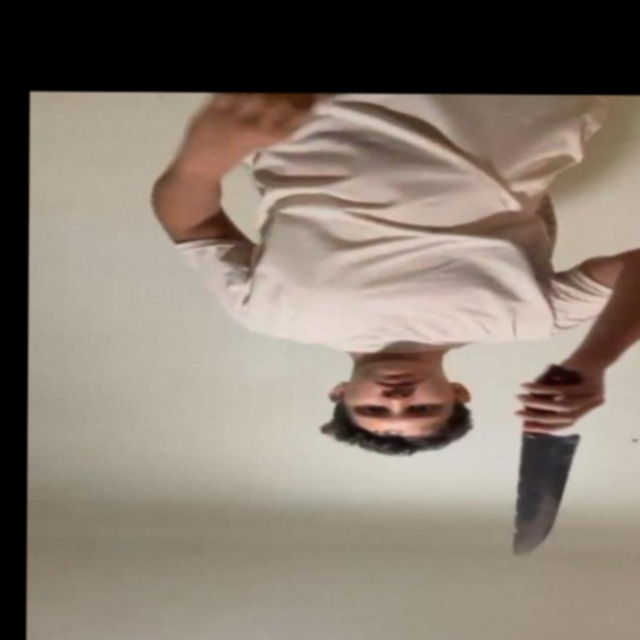Sharp-Object: (514, 432, 577, 557)
